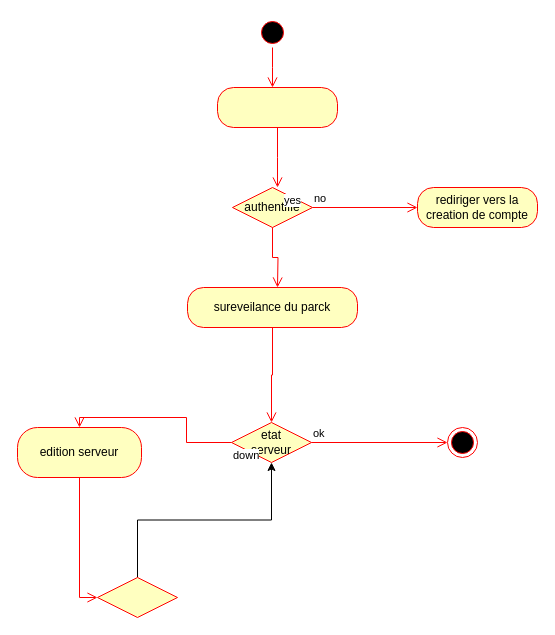
This 555x635 diagram has some shape labels left out. Here are the shapes that lost their labels. From the top down, the centre of each, then its label:
the point at 277,107: entrer le login /motde passe
the point at 137,597: action reparation
